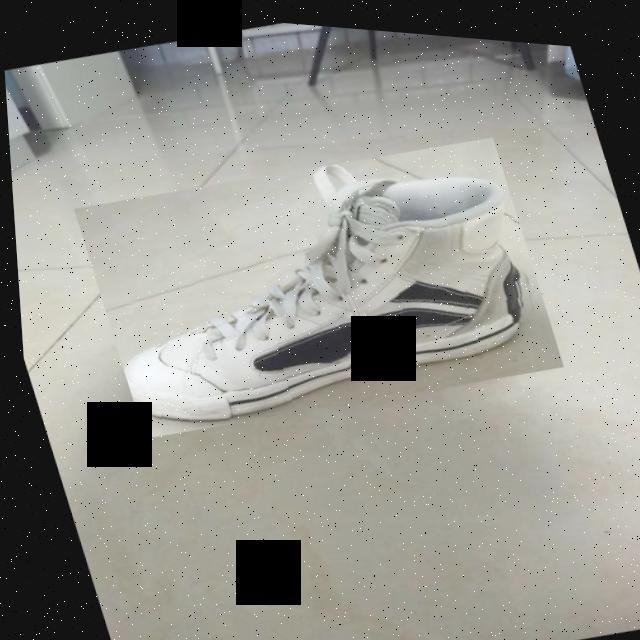shoe: (65, 101, 564, 463)
